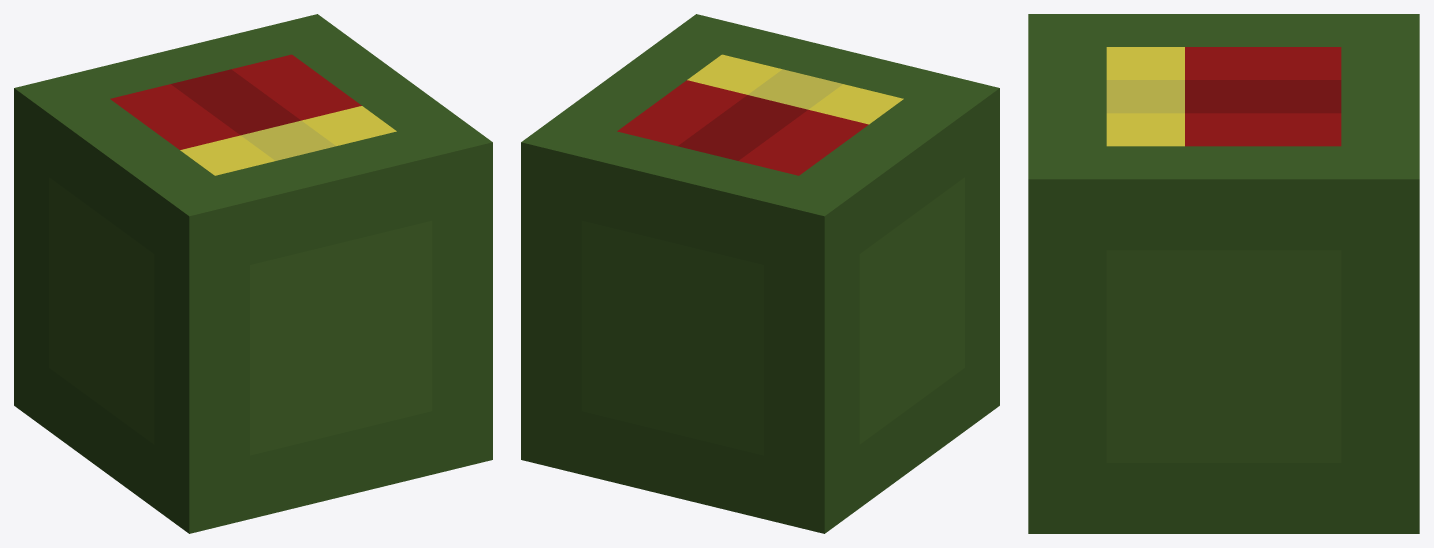
File: Item-1.obj
3 renders of one model, left to right at view 1: azimuth 30°, elevation 25°; view 2: azimuth 150°, elevation 25°; view 3: azimuth 270°, elevation 25°, orthographic. The views are drawn at different scales.
Visible parts, largest first — view 1: Item-1; view 2: Item-1; view 3: Item-1.
Part boxes in pixels (x1,y1,x2,y2): Item-1: [14, 14, 492, 533]; Item-1: [521, 14, 999, 533]; Item-1: [1028, 14, 1419, 533].
Bounding box in the file's own units: 5 × 5 × 5.
1 material, 1 textured.
